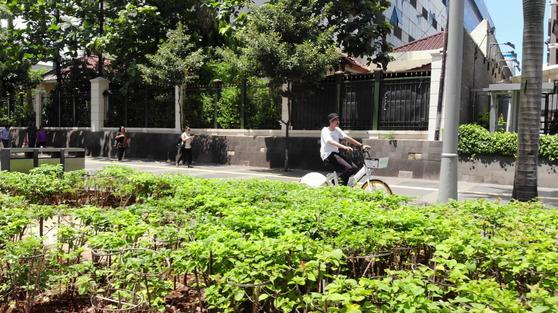bike: (292, 150, 400, 204)
